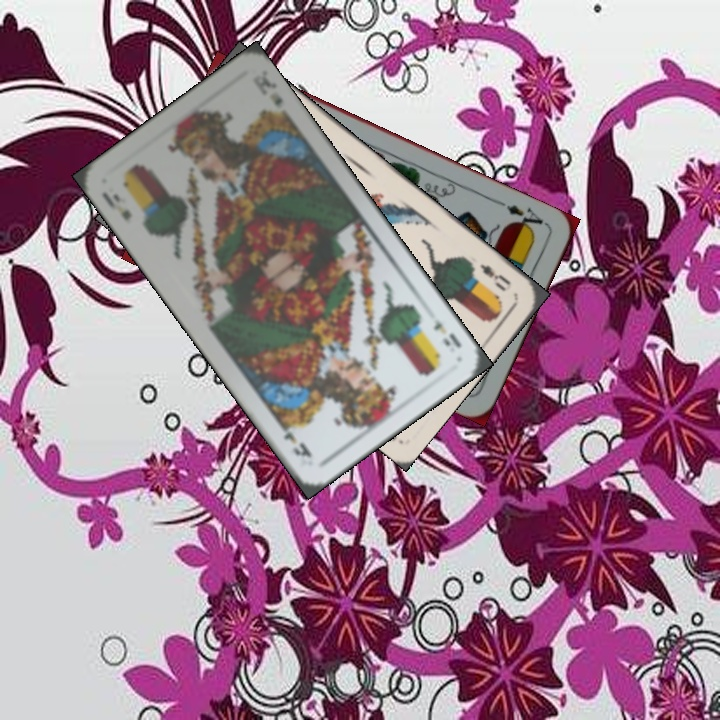EA: (493, 196, 550, 235)
EK: (426, 304, 464, 350), (98, 188, 134, 223)
EO: (466, 258, 514, 295)
